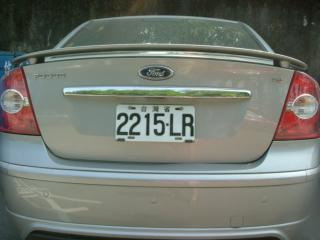plate: (113, 102, 197, 142)
